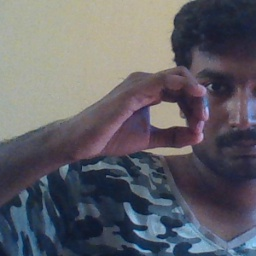O: (72, 54, 218, 175)
